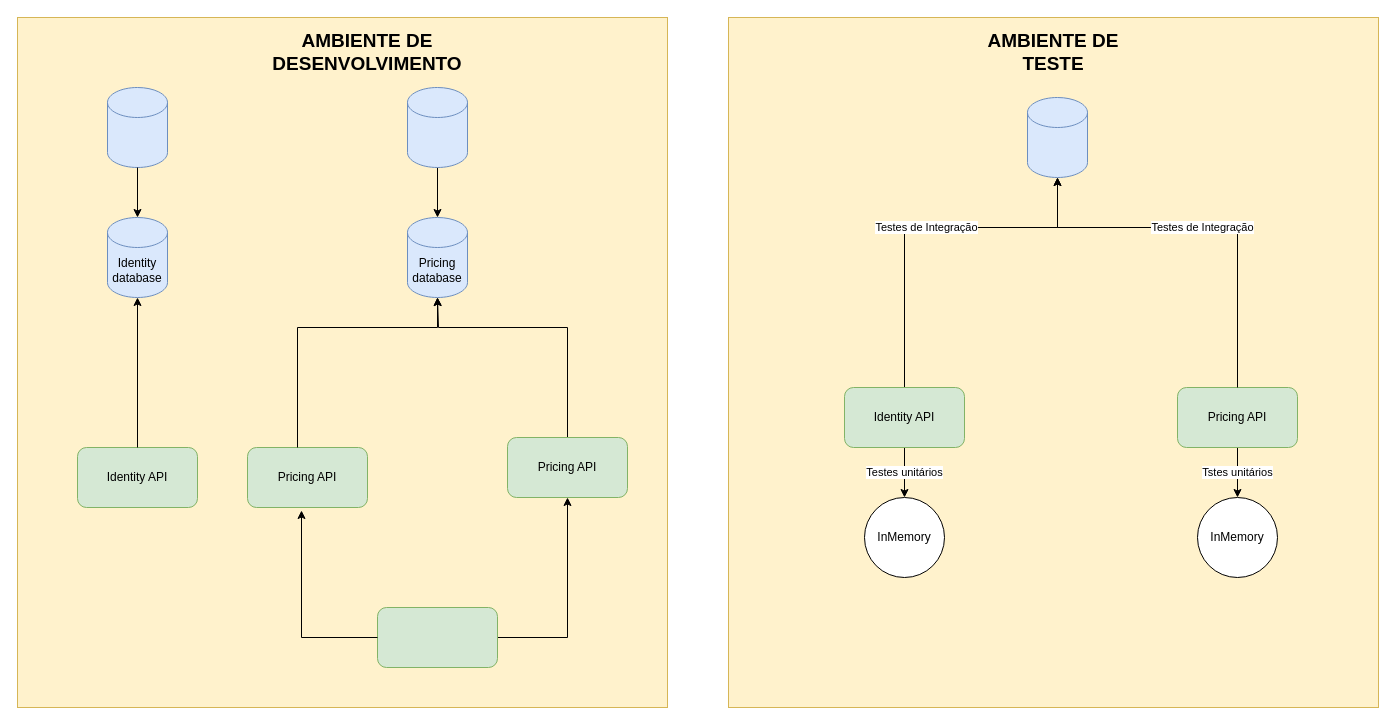
This 1396x725 diagram has some shape labels left out. The centre of each missing label's shape, as x and y in pixels:
Insurance Db: the point at 1057,137
NGINX: the point at 437,637
Shadow Identity: the point at 137,127
Shadow Pricing: the point at 437,127
